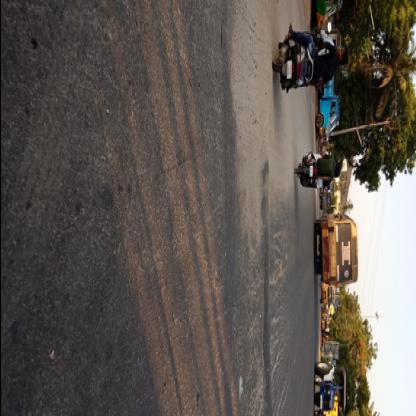speed-bumps: (254, 117, 280, 415)
